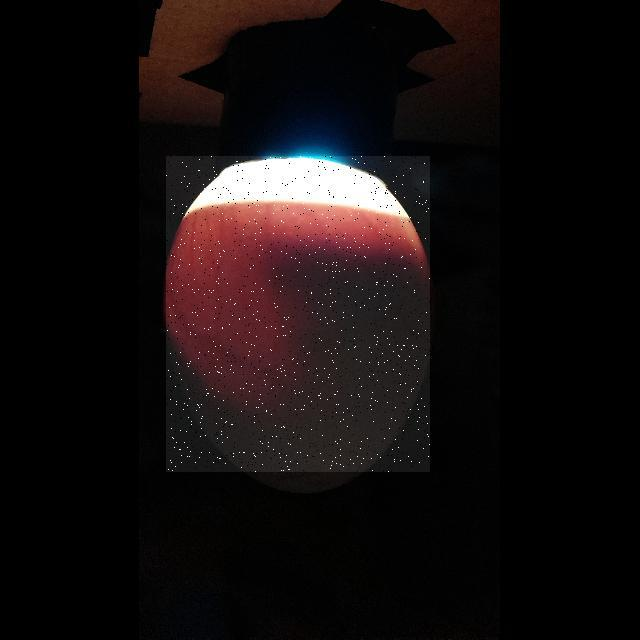Fertile: (166, 156, 430, 472)
